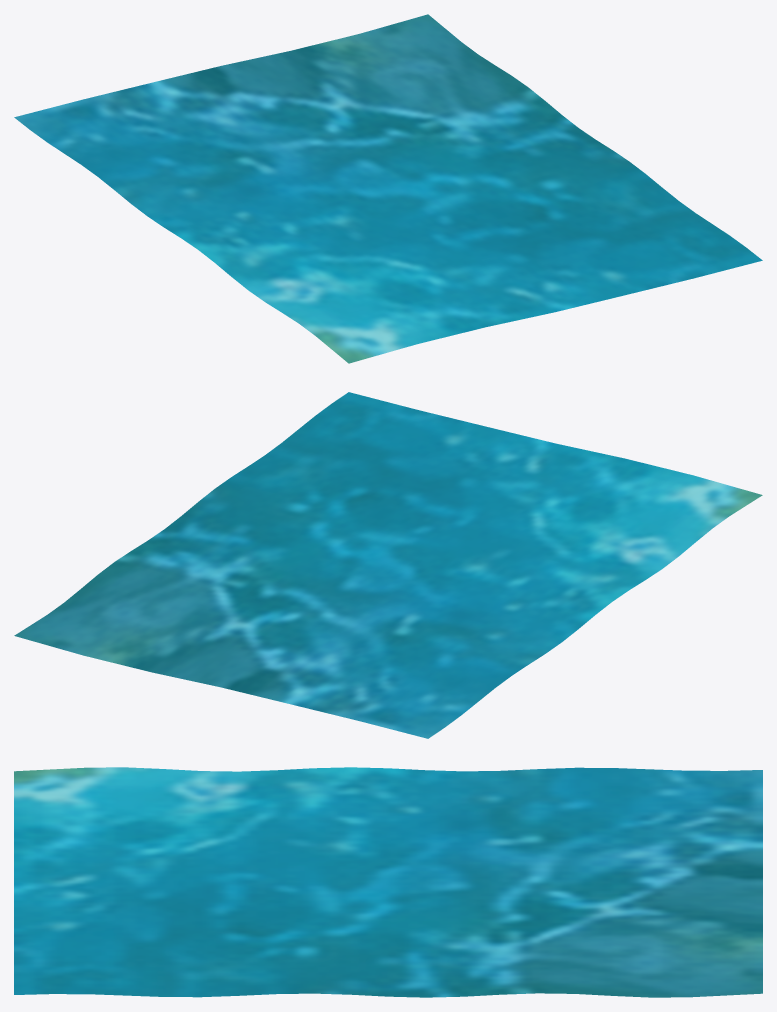
Rendered from River_Surface_A.glb.
3 views of the same model, one above another, from view 1: azimuth 30°, elevation 25°; view 2: azimuth 150°, elevation 25°; view 3: azimuth 270°, elevation 25° (orthographic). The views are drawn at different scales.
Visible parts, largest first — view 1: River_Surface_A; view 2: River_Surface_A; view 3: River_Surface_A.
Boxes of the visible parts, x1,y1,x2,y2 form: River_Surface_A: (14,14,762,363); River_Surface_A: (14,392,762,738); River_Surface_A: (14,767,762,997).
Bounding box in the file's own units: 5 × 0.0444 × 7.
1 material, 1 textured.
